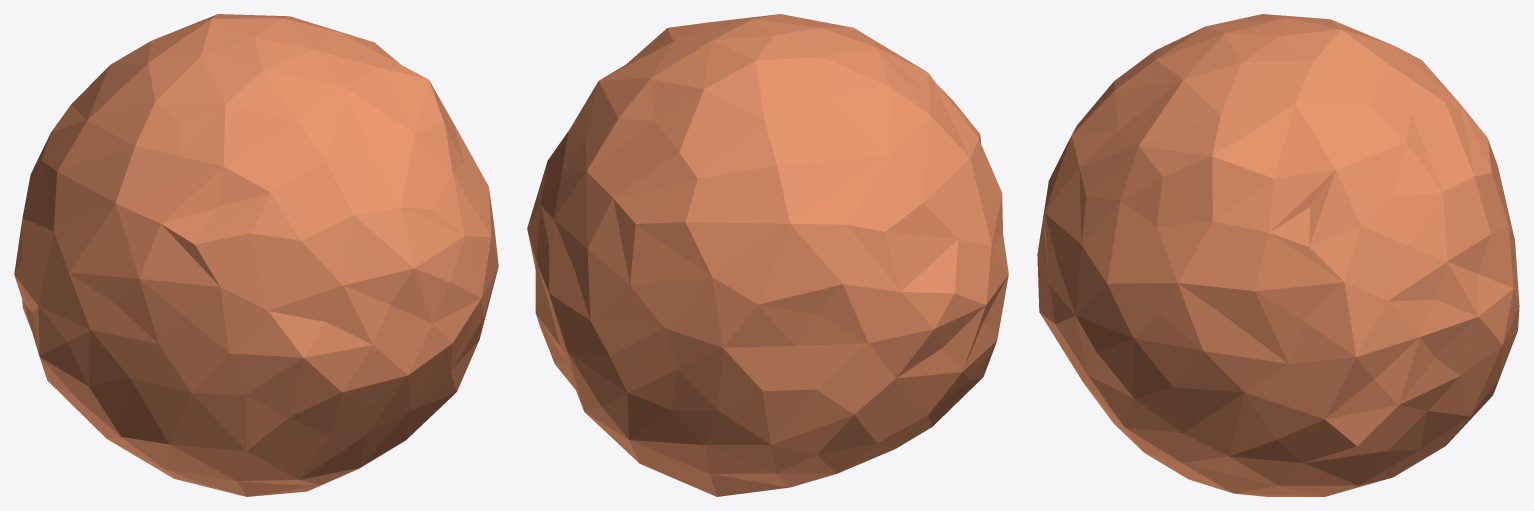
Rendered from low poly planet 3.fbx.
3 views of the same model, side by side, from view 1: azimuth 30°, elevation 25°; view 2: azimuth 150°, elevation 25°; view 3: azimuth 270°, elevation 25° (orthographic).
Visible parts, largest first — view 1: Icosphere; view 2: Icosphere; view 3: Icosphere.
Part boxes in pixels (left/top/right/bottom): Icosphere: left=14, top=14, right=498, bottom=496; Icosphere: left=527, top=14, right=1008, bottom=496; Icosphere: left=1037, top=14, right=1519, bottom=496.
Size of the model in its own units: 205 by 201 by 200.
